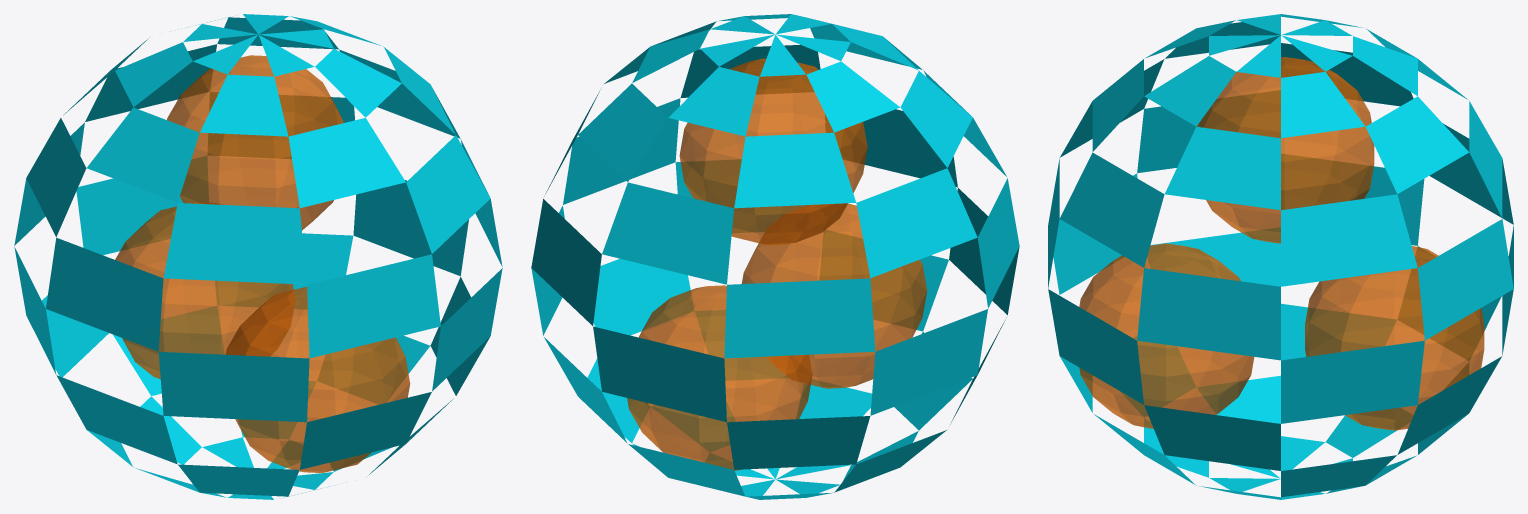
The model's file is ammo.fbx.
The picture shows the model from 3 angles, left to right: view 1: azimuth 30°, elevation 25°; view 2: azimuth 150°, elevation 25°; view 3: azimuth 270°, elevation 25°; orthographic projection.
Parts seen in each view (by area): view 1: pSphere5, pSphere1, pSphere3, pSphere4; view 2: pSphere5, pSphere3, pSphere4, pSphere1; view 3: pSphere5, pSphere1, pSphere4, pSphere3.
Boxes of the visible parts, <box> form: pSphere5: <box>14,14,502,499</box>; pSphere1: <box>167,55,343,230</box>; pSphere3: <box>225,286,410,472</box>; pSphere4: <box>115,202,294,379</box>; pSphere5: <box>531,14,1019,499</box>; pSphere3: <box>741,203,927,388</box>; pSphere4: <box>627,285,812,470</box>; pSphere1: <box>679,58,867,245</box>; pSphere5: <box>1048,14,1513,499</box>; pSphere1: <box>1197,57,1374,243</box>; pSphere4: <box>1305,246,1484,430</box>; pSphere3: <box>1079,243,1254,428</box>.
Size of the model in its own units: 5.19 by 5.19 by 4.94.
